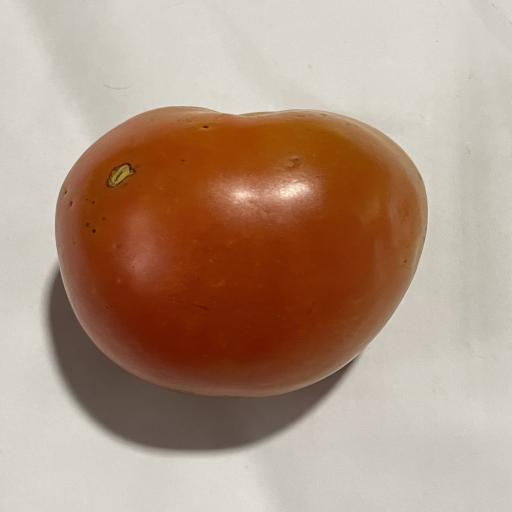unripe: (55, 107, 427, 397)
